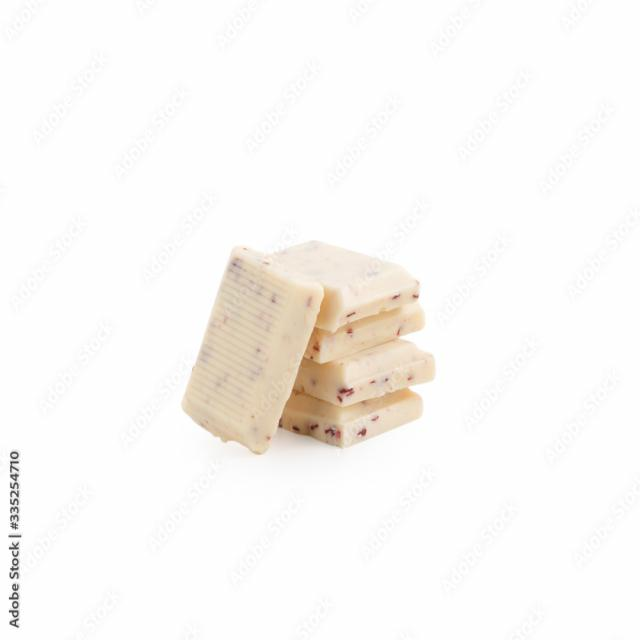Chocolate: (183, 235, 437, 450), (175, 239, 325, 453)
